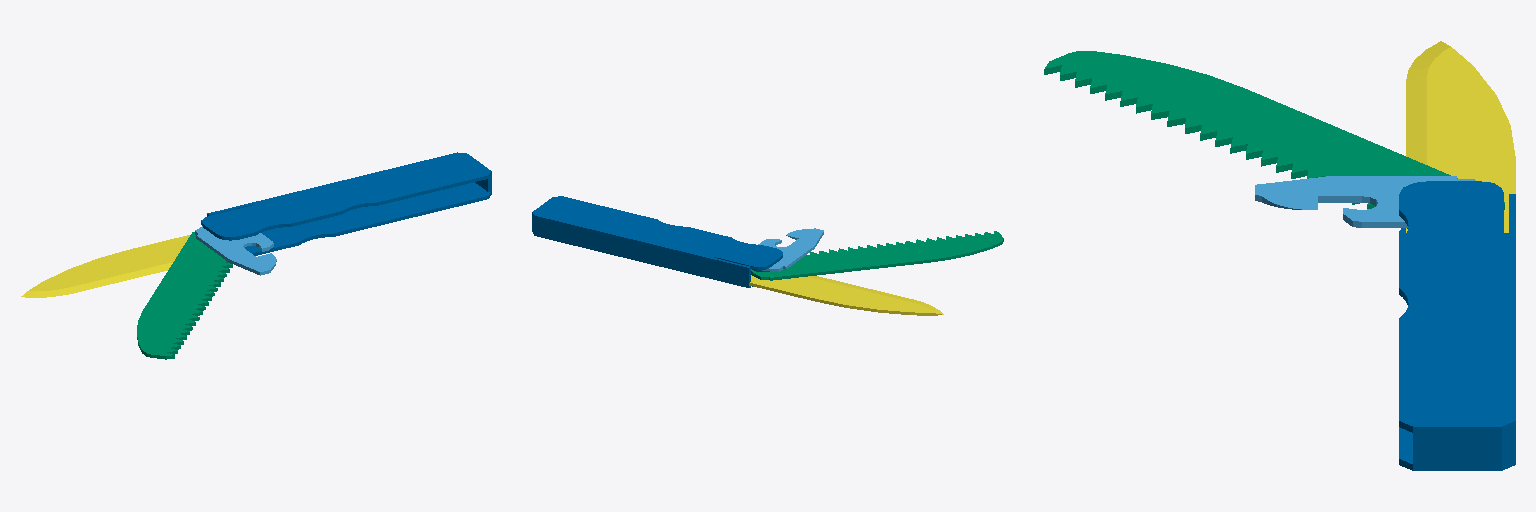
The robot description file, URDF, robot "partnet_65d8e875-0476-4b77-9fd3-0254d39b845d":
<?xml version="1.0" ?>
<robot name="partnet_65d8e875-0476-4b77-9fd3-0254d39b845d">
	<link name="base"/>
	<link name="link_0">
		<visual name="rotation_blade-1">
			<origin xyz="0.0740241965698662 -0.0 -0.1437568034301338"/>
			<geometry>
				<mesh filename="textured_objs/original-17.obj"/>
			</geometry>
		</visual>
		<collision>
			<origin xyz="0.0740241965698662 -0.0 -0.1437568034301338"/>
			<geometry>
				<mesh filename="textured_objs/original-17.obj"/>
			</geometry>
		</collision>
	</link>
	<joint name="joint_0" type="revolute">
		<origin xyz="-0.0740241965698662 0.0 0.1437568034301338"/>
		<axis xyz="0.0 -1.0 0.0"/>
		<child link="link_0"/>
		<parent link="link_3"/>
		<limit lower="-1.489114917801562" upper="1.5268140296446395"/>
	</joint>
	<link name="link_1">
		<visual name="rotation_blade-2">
			<origin xyz="0.0740241965698662 -0.0 -0.1437568034301338"/>
			<geometry>
				<mesh filename="textured_objs/original-20.obj"/>
			</geometry>
		</visual>
		<collision>
			<origin xyz="0.0740241965698662 -0.0 -0.1437568034301338"/>
			<geometry>
				<mesh filename="textured_objs/original-20.obj"/>
			</geometry>
		</collision>
	</link>
	<joint name="joint_1" type="revolute">
		<origin xyz="-0.0740241965698662 0.0 0.1437568034301338"/>
		<axis xyz="0.0 -1.0 0.0"/>
		<child link="link_1"/>
		<parent link="link_3"/>
		<limit lower="-2.356194490192345" upper="0.7665486074759096"/>
	</joint>
	<link name="link_2">
		<visual name="rotation_blade-3">
			<origin xyz="0.0740241965698662 -0.0 -0.1437568034301338"/>
			<geometry>
				<mesh filename="textured_objs/original-7.obj"/>
			</geometry>
		</visual>
		<collision>
			<origin xyz="0.0740241965698662 -0.0 -0.1437568034301338"/>
			<geometry>
				<mesh filename="textured_objs/original-7.obj"/>
			</geometry>
		</collision>
	</link>
	<joint name="joint_2" type="revolute">
		<origin xyz="-0.0740241965698662 0.0 0.1437568034301338"/>
		<axis xyz="0.0 -1.0 0.0"/>
		<child link="link_2"/>
		<parent link="link_3"/>
		<limit lower="-3.1038935417467157" upper="0.0"/>
	</joint>
	<link name="link_3">
		<visual name="base_body-4">
			<origin xyz="0 0 0"/>
			<geometry>
				<mesh filename="textured_objs/original-21.obj"/>
			</geometry>
		</visual>
		<visual name="base_body-4">
			<origin xyz="0 0 0"/>
			<geometry>
				<mesh filename="textured_objs/original-4.obj"/>
			</geometry>
		</visual>
		<visual name="base_body-4">
			<origin xyz="0 0 0"/>
			<geometry>
				<mesh filename="textured_objs/original-3.obj"/>
			</geometry>
		</visual>
		<visual name="base_body-4">
			<origin xyz="0 0 0"/>
			<geometry>
				<mesh filename="textured_objs/original-2.obj"/>
			</geometry>
		</visual>
		<visual name="base_body-4">
			<origin xyz="0 0 0"/>
			<geometry>
				<mesh filename="textured_objs/original-9.obj"/>
			</geometry>
		</visual>
		<visual name="base_body-4">
			<origin xyz="0 0 0"/>
			<geometry>
				<mesh filename="textured_objs/original-6.obj"/>
			</geometry>
		</visual>
		<visual name="base_body-4">
			<origin xyz="0 0 0"/>
			<geometry>
				<mesh filename="textured_objs/original-15.obj"/>
			</geometry>
		</visual>
		<visual name="base_body-4">
			<origin xyz="0 0 0"/>
			<geometry>
				<mesh filename="textured_objs/original-11.obj"/>
			</geometry>
		</visual>
		<visual name="base_body-4">
			<origin xyz="0 0 0"/>
			<geometry>
				<mesh filename="textured_objs/original-18.obj"/>
			</geometry>
		</visual>
		<visual name="base_body-4">
			<origin xyz="0 0 0"/>
			<geometry>
				<mesh filename="textured_objs/original-12.obj"/>
			</geometry>
		</visual>
		<visual name="base_body-4">
			<origin xyz="0 0 0"/>
			<geometry>
				<mesh filename="textured_objs/original-14.obj"/>
			</geometry>
		</visual>
		<collision>
			<origin xyz="0 0 0"/>
			<geometry>
				<mesh filename="textured_objs/original-21.obj"/>
			</geometry>
		</collision>
		<collision>
			<origin xyz="0 0 0"/>
			<geometry>
				<mesh filename="textured_objs/original-4.obj"/>
			</geometry>
		</collision>
		<collision>
			<origin xyz="0 0 0"/>
			<geometry>
				<mesh filename="textured_objs/original-3.obj"/>
			</geometry>
		</collision>
		<collision>
			<origin xyz="0 0 0"/>
			<geometry>
				<mesh filename="textured_objs/original-2.obj"/>
			</geometry>
		</collision>
		<collision>
			<origin xyz="0 0 0"/>
			<geometry>
				<mesh filename="textured_objs/original-9.obj"/>
			</geometry>
		</collision>
		<collision>
			<origin xyz="0 0 0"/>
			<geometry>
				<mesh filename="textured_objs/original-6.obj"/>
			</geometry>
		</collision>
		<collision>
			<origin xyz="0 0 0"/>
			<geometry>
				<mesh filename="textured_objs/original-15.obj"/>
			</geometry>
		</collision>
		<collision>
			<origin xyz="0 0 0"/>
			<geometry>
				<mesh filename="textured_objs/original-11.obj"/>
			</geometry>
		</collision>
		<collision>
			<origin xyz="0 0 0"/>
			<geometry>
				<mesh filename="textured_objs/original-18.obj"/>
			</geometry>
		</collision>
		<collision>
			<origin xyz="0 0 0"/>
			<geometry>
				<mesh filename="textured_objs/original-12.obj"/>
			</geometry>
		</collision>
		<collision>
			<origin xyz="0 0 0"/>
			<geometry>
				<mesh filename="textured_objs/original-14.obj"/>
			</geometry>
		</collision>
	</link>
	<joint name="joint_3" type="fixed">
		<origin rpy="1.570796326794897 0 -1.570796326794897" xyz="0 0 0"/>
		<child link="link_3"/>
		<parent link="base"/>
	</joint>
</robot>

--- Render facts (derived) ---
The picture shows the robot from 3 angles, left to right: view 1: azimuth 30°, elevation 25°; view 2: azimuth 150°, elevation 25°; view 3: azimuth 270°, elevation 25°; orthographic projection.
Model partnet_65d8e875-0476-4b77-9fd3-0254d39b845d with 5 links and 4 joints (3 revolute, 1 fixed), rooted at base, posed every joint at zero.
Visible links, largest first — view 1: link_3, link_1, link_2, link_0; view 2: link_3, link_1, link_2, link_0; view 3: link_3, link_1, link_2, link_0.
Boxes of the visible links, left/top/right/bottom form: link_3: left=201, top=152, right=491, bottom=255; link_1: left=137, top=232, right=245, bottom=359; link_2: left=21, top=235, right=189, bottom=297; link_0: left=195, top=226, right=276, bottom=275; link_3: left=532, top=196, right=782, bottom=287; link_1: left=751, top=231, right=1003, bottom=280; link_2: left=749, top=275, right=943, bottom=315; link_0: left=758, top=228, right=823, bottom=271; link_3: left=1399, top=181, right=1515, bottom=470; link_1: left=1044, top=51, right=1504, bottom=228; link_2: left=1406, top=41, right=1515, bottom=232; link_0: left=1255, top=176, right=1475, bottom=227.
Size in the robot's own frame: 1.75 by 0.8267 by 0.0857 metres.
14 mesh visuals loaded from 14 distinct referenced files (14 OBJ).